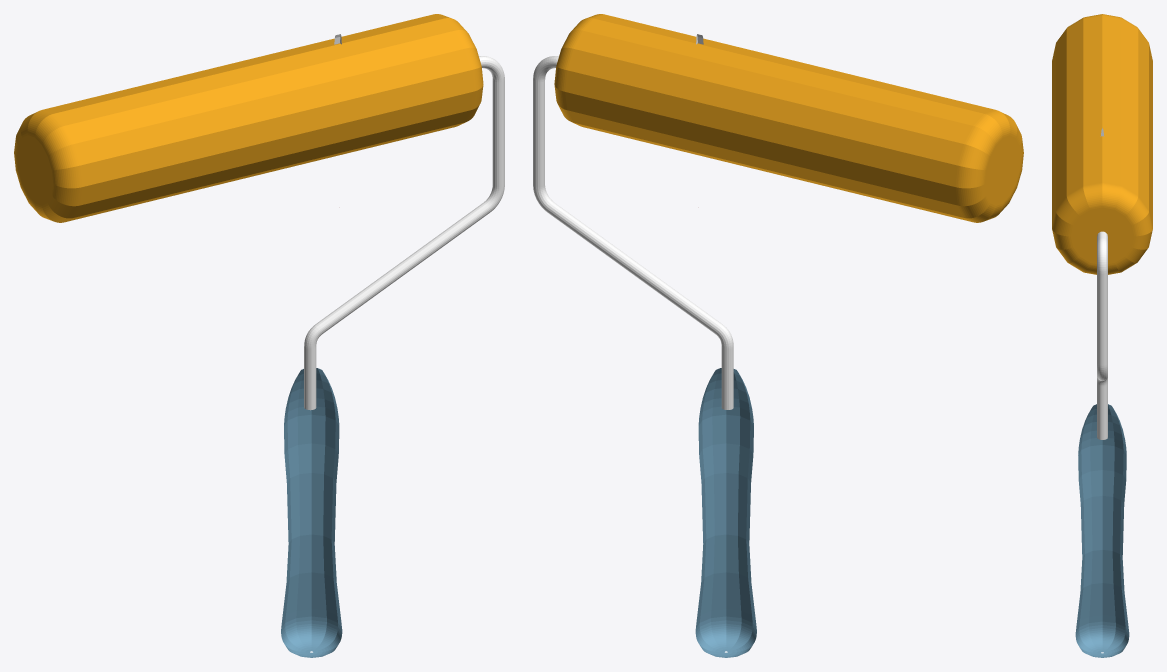
File: paint.glb
The picture shows the model from 3 angles, left to right: view 1: azimuth 30°, elevation 25°; view 2: azimuth 150°, elevation 25°; view 3: azimuth 270°, elevation 25°; orthographic projection. The views are drawn at different scales.
Parts seen in each view (by area): view 1: Lathe.1, Lathe, wire_sweep; view 2: Lathe.1, Lathe, wire_sweep; view 3: Lathe.1, Lathe, wire_sweep.
Part boxes in pixels (x1,y1,x2,y2): Lathe.1: [14, 14, 483, 222]; Lathe: [281, 368, 342, 657]; wire_sweep: [304, 56, 504, 410]; Lathe.1: [554, 14, 1023, 222]; Lathe: [695, 368, 756, 657]; wire_sweep: [533, 56, 733, 409]; Lathe.1: [1052, 14, 1152, 274]; Lathe: [1075, 404, 1129, 657]; wire_sweep: [1097, 231, 1107, 439].
Bounding box in the file's own units: 197 × 245 × 41.92.
